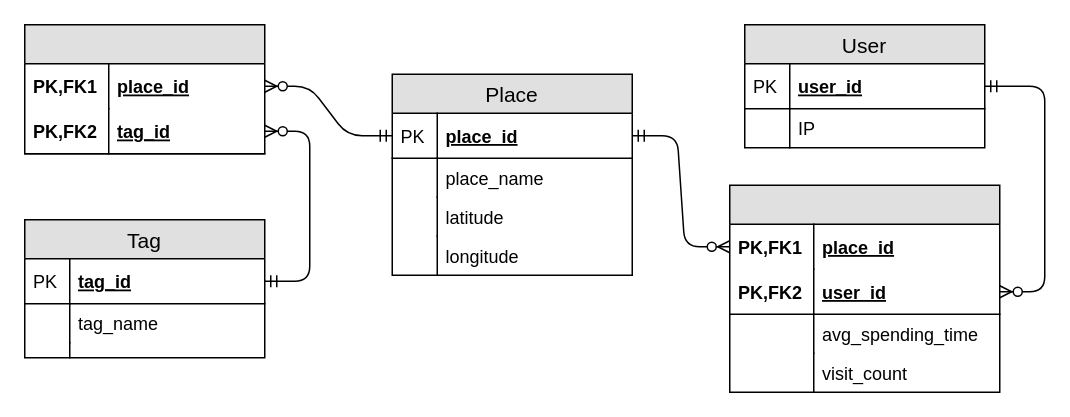
Some shapes in this 1070 by 417 pixel diagram are drawn without their labels. The shapes that lost their labels are listed below. From the top down, each one's box as (x1, y1, x2, y2) in pixels, then its label:
(23, 23, 265, 154): Place_Tag
(728, 184, 1000, 392): Place_User
